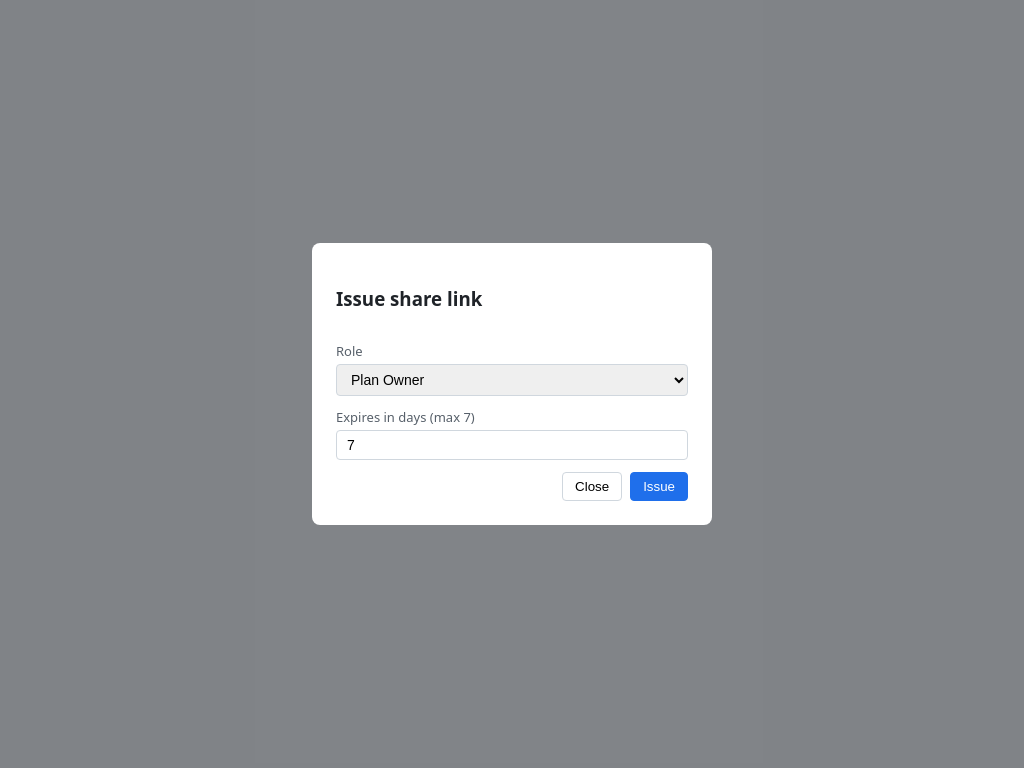
Test: ShareLinkModal › issues a share link and reveals the one-time token
Click the button with test id "share-issue" at (659, 486), box [630,472,688,501]
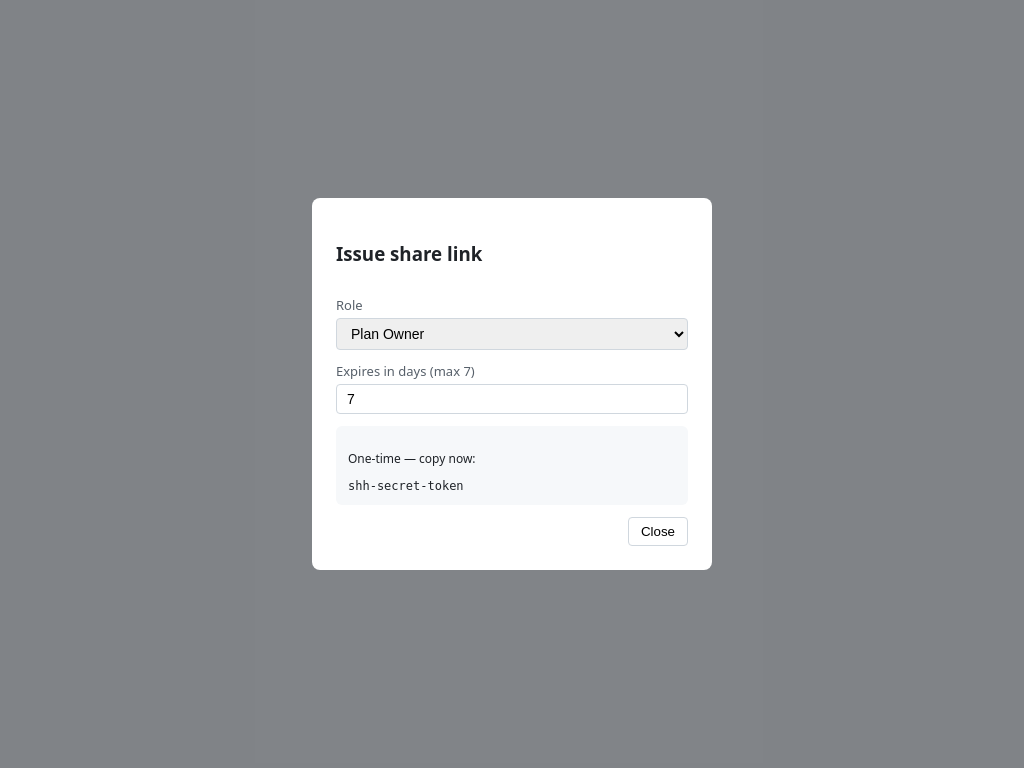
Expected: the text with test id "share-token" reads "shh-secret-token", [348,479,464,493]
